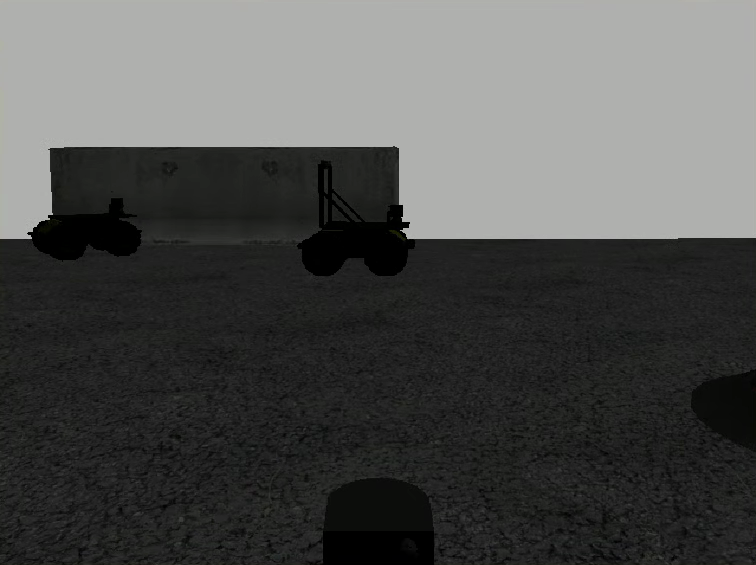husky: (297, 220, 415, 277), (27, 214, 142, 259)
